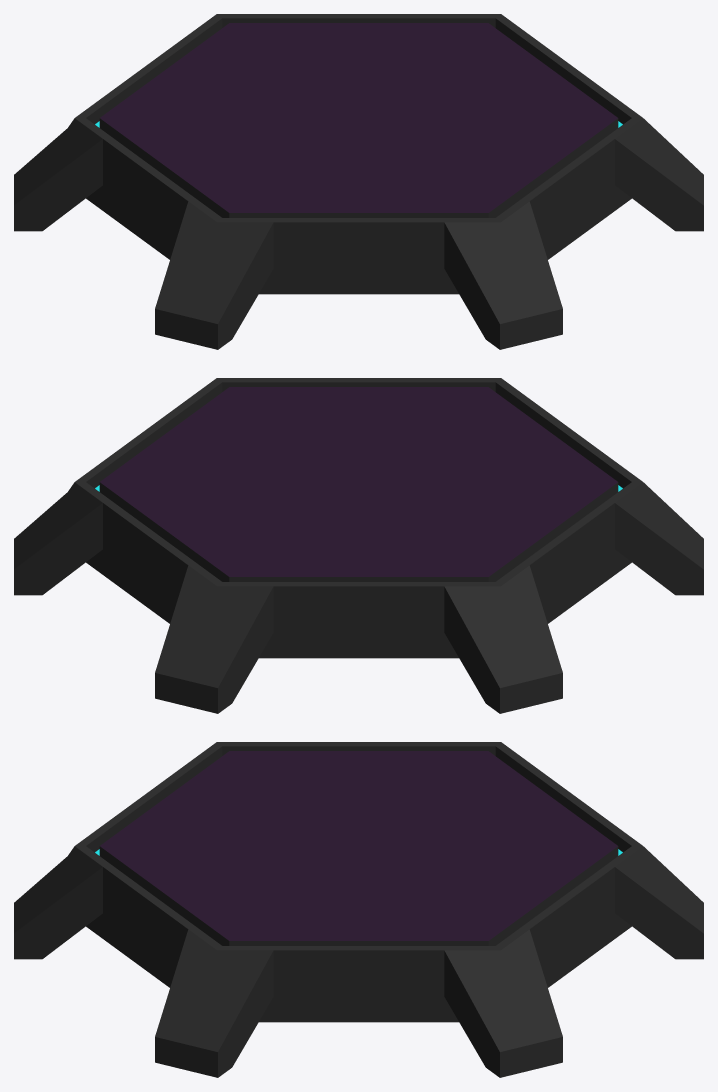
File: TowerBaseHexagonal.fbx
3 views of the same model, one above another, from view 1: azimuth 30°, elevation 25°; view 2: azimuth 150°, elevation 25°; view 3: azimuth 270°, elevation 25° (orthographic).
Visible parts, largest first — view 1: Cylinder, Cylinder.001; view 2: Cylinder, Cylinder.001; view 3: Cylinder, Cylinder.001.
Boxes of the visible parts, box(x1,y1,x2,y2) form: Cylinder: box(14, 14, 703, 349); Cylinder.001: box(100, 23, 617, 212); Cylinder: box(14, 378, 703, 713); Cylinder.001: box(100, 387, 617, 576); Cylinder: box(14, 742, 703, 1077); Cylinder.001: box(100, 751, 617, 940).
Size of the model in its own units: 178 by 30.4 by 194.
